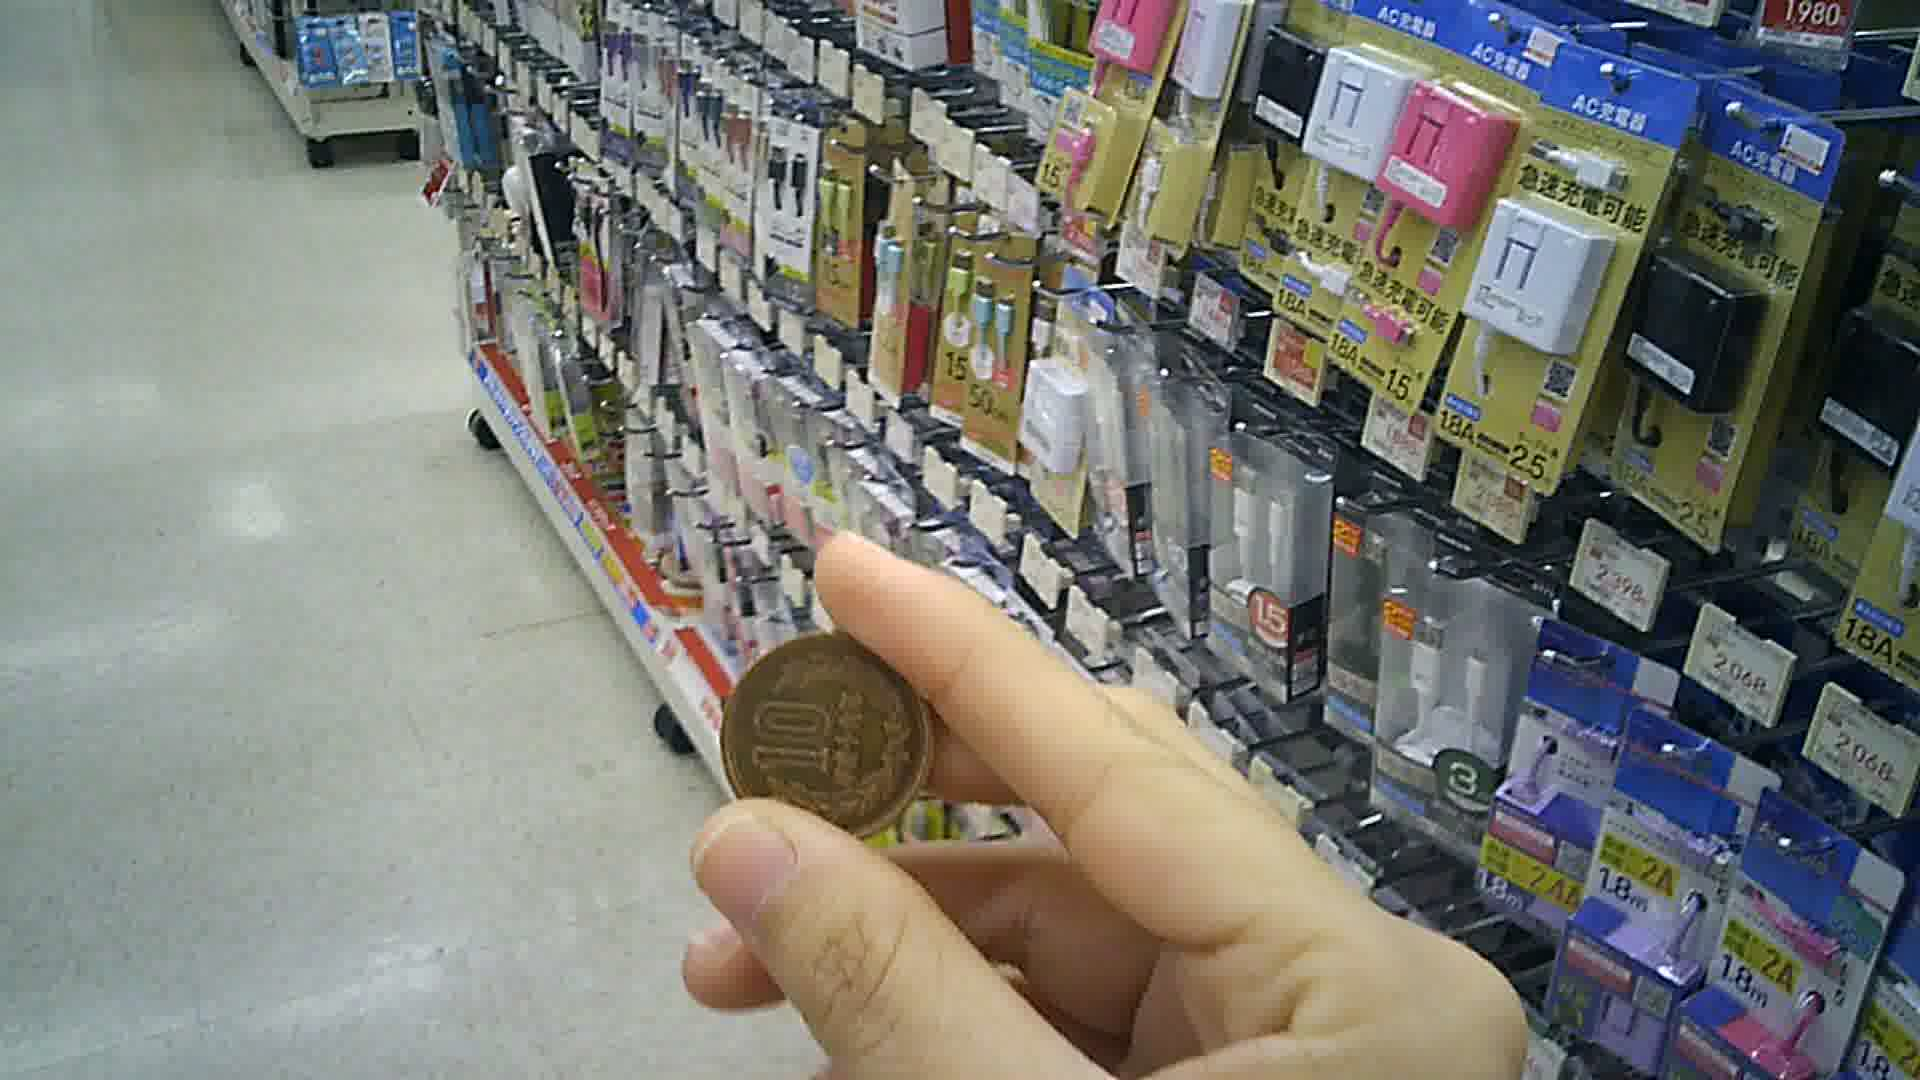10 Yen: (720, 625, 938, 851)
